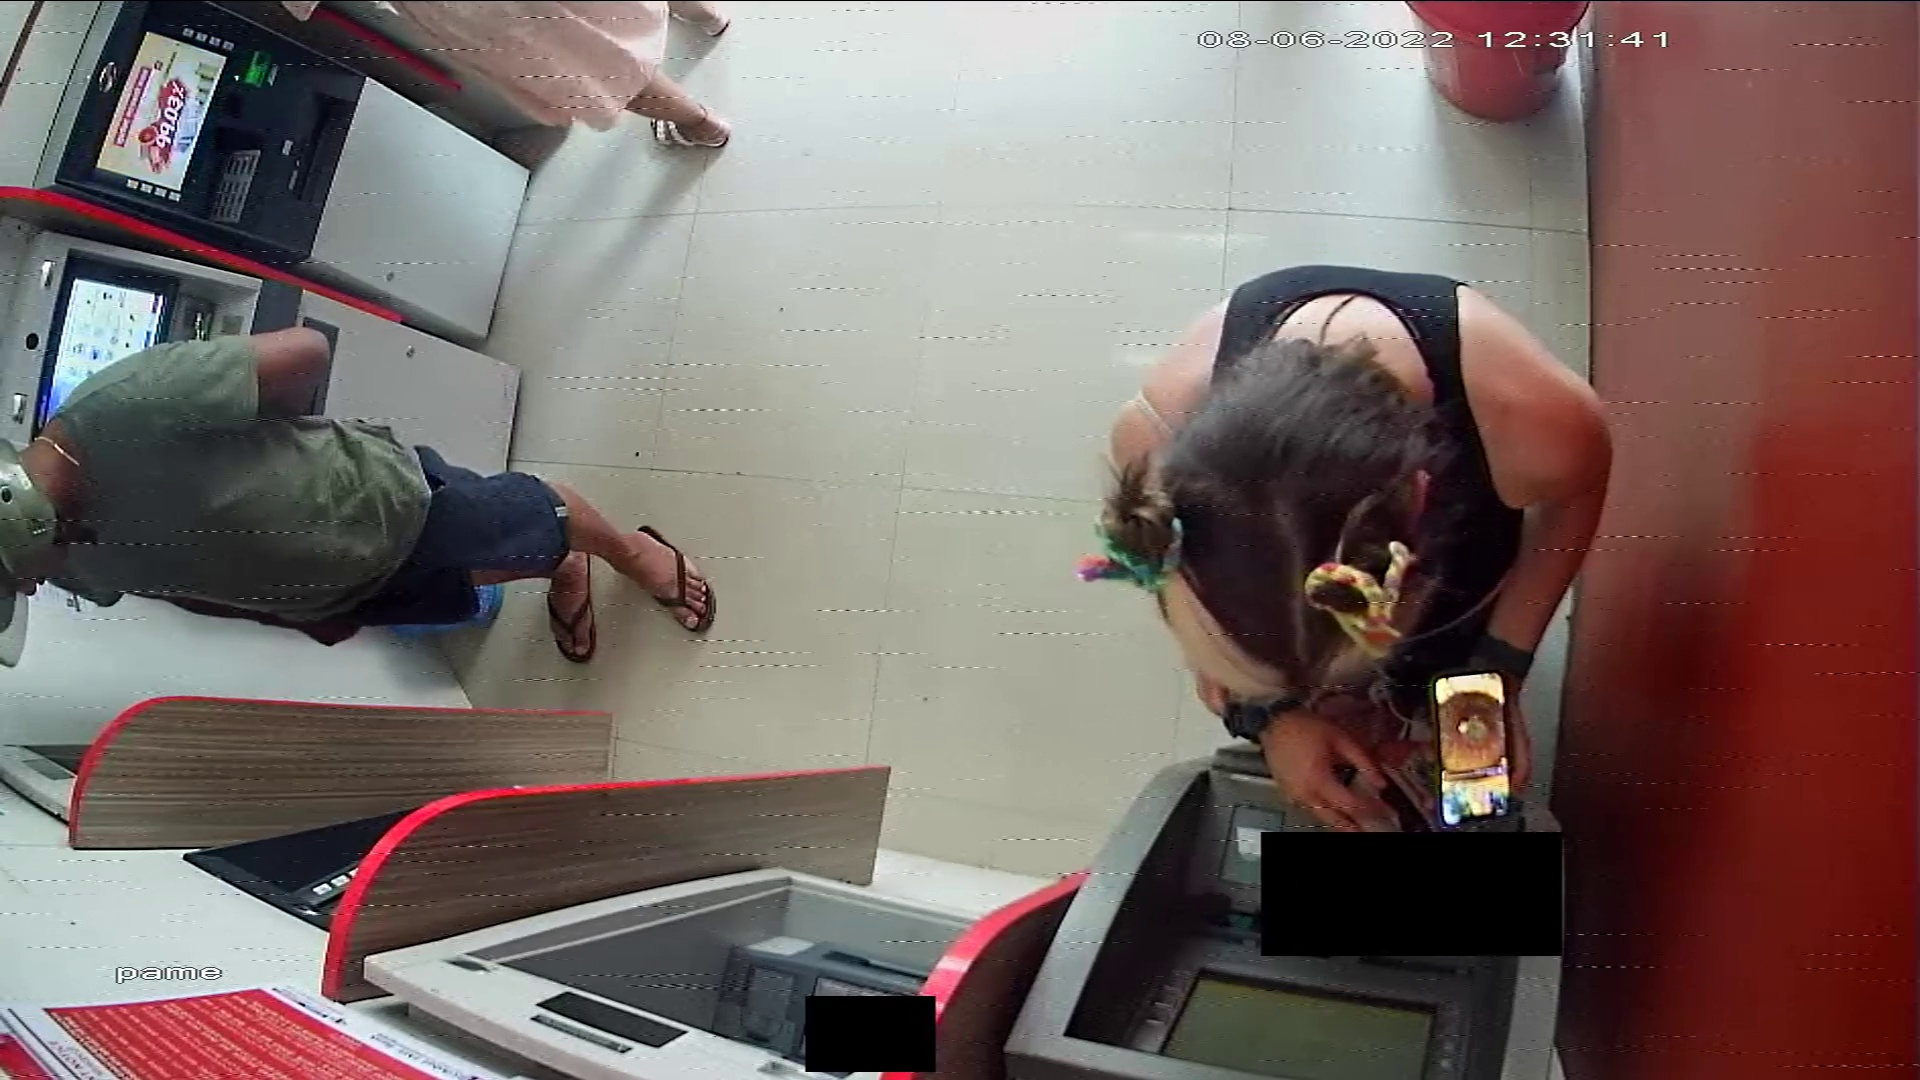helmet: (1, 435, 58, 668)
person: (1096, 264, 1613, 834), (1, 326, 717, 672)
phone: (1432, 671, 1516, 827)
